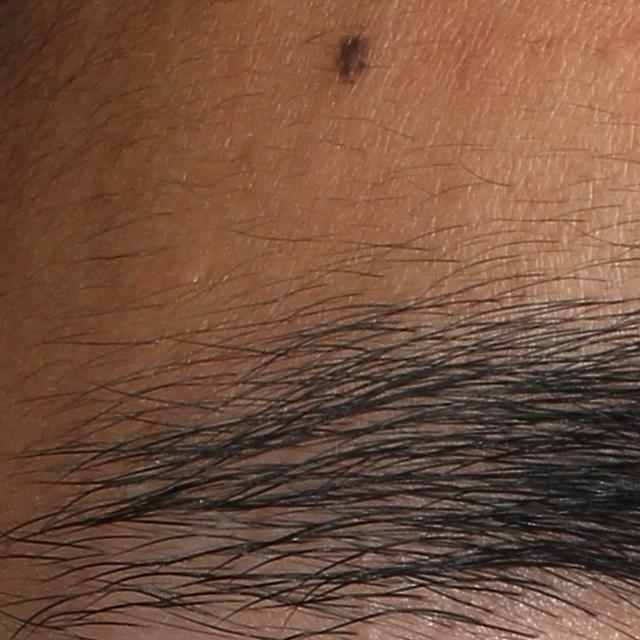nevus: (333, 32, 375, 84)
